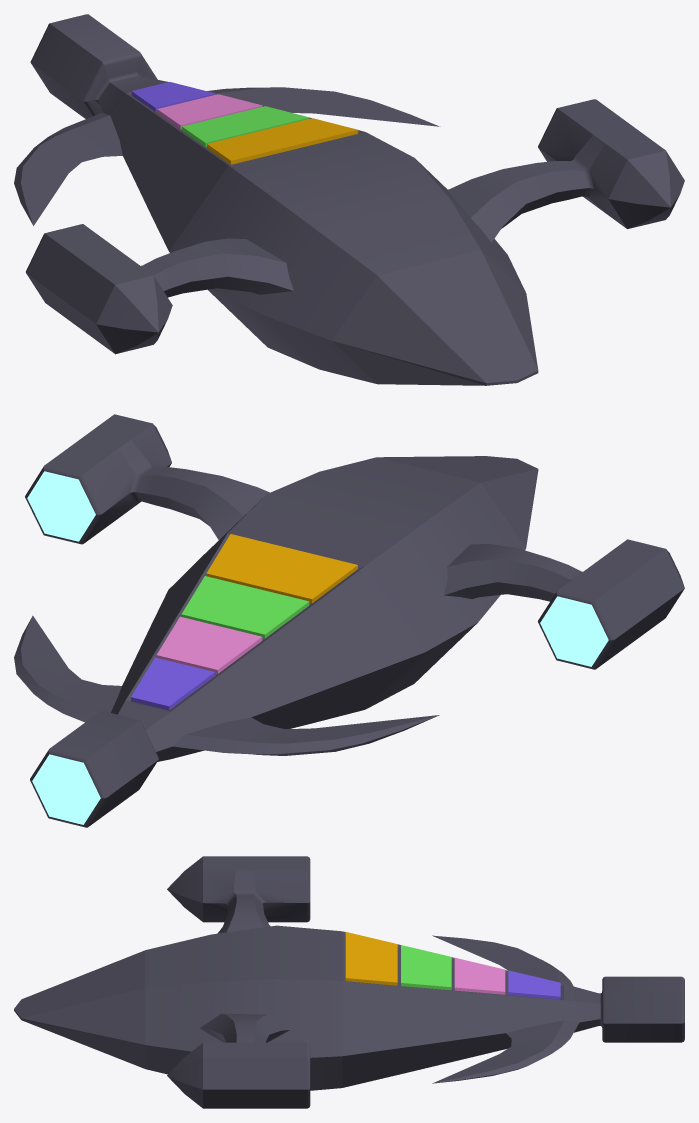
File: spaceship3.fbx
3 views of the same model, one above another, from view 1: azimuth 30°, elevation 25°; view 2: azimuth 150°, elevation 25°; view 3: azimuth 270°, elevation 25° (orthographic). The views are drawn at different scales.
Visible parts, largest first — view 1: ship3; view 2: ship3; view 3: ship3.
Boxes of the visible parts, x1=… form: ship3: x1=14, y1=14, x2=684, y2=385; ship3: x1=14, y1=414, x2=684, y2=827; ship3: x1=14, y1=856, x2=684, y2=1108.
Size of the model in its own units: 4.57 by 1.14 by 6.05.
